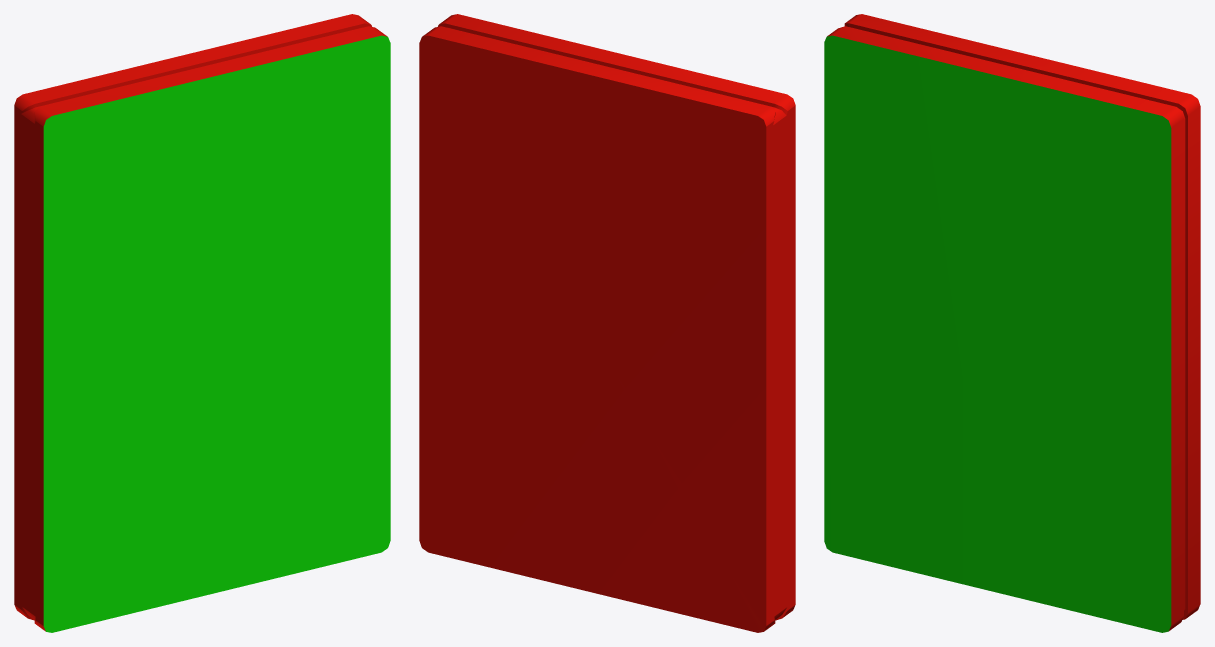
The model's file is Games.fbx.
3 views of the same model, side by side, from view 1: azimuth 30°, elevation 25°; view 2: azimuth 150°, elevation 25°; view 3: azimuth 330°, elevation 25° (orthographic).
Visible parts, largest first — view 1: Cube.002; view 2: Cube.002; view 3: Cube.002.
Part boxes in pixels (bbox=[...]): Cube.002: bbox=[14, 14, 390, 632]; Cube.002: bbox=[419, 14, 795, 632]; Cube.002: bbox=[824, 14, 1200, 632].
Bounding box in the file's own units: 12.48 × 17.77 × 1.83.
